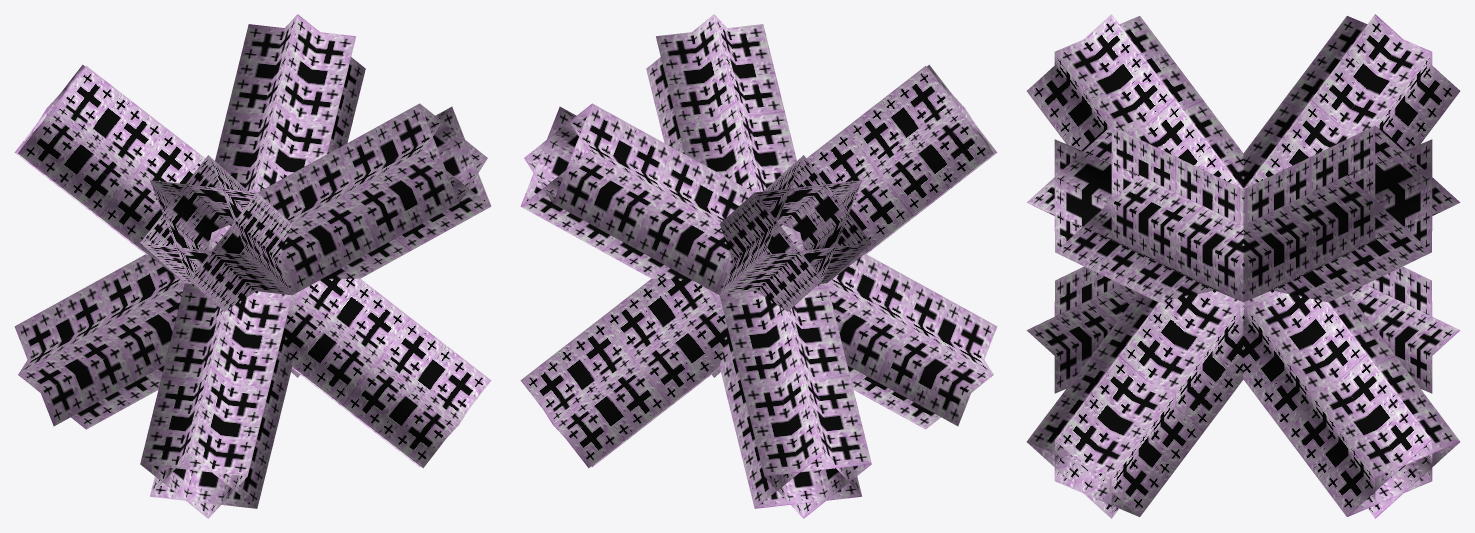
File: StarHexahemioctacron11.gltf
The picture shows the model from 3 angles, left to right: view 1: azimuth 30°, elevation 25°; view 2: azimuth 150°, elevation 25°; view 3: azimuth 270°, elevation 25°; orthographic projection. The views are drawn at different scales.
Parts seen in each view (by area): view 1: StarHexahemioctacron; view 2: StarHexahemioctacron; view 3: StarHexahemioctacron.
Part boxes in pixels (bbox=[...]): StarHexahemioctacron: bbox=[14, 14, 491, 518]; StarHexahemioctacron: bbox=[520, 14, 997, 518]; StarHexahemioctacron: bbox=[1026, 14, 1460, 518].
Size of the model in its own units: 6.25 by 6.25 by 6.25.
Materials: 1 (1 with a texture image).
